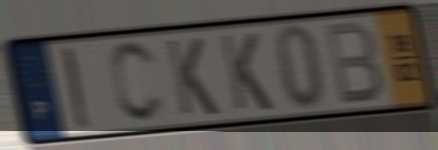0: (273, 21, 330, 114)
B: (321, 19, 385, 108)
C: (107, 39, 169, 127)
I: (60, 44, 94, 132)
K: (163, 35, 222, 118), (217, 30, 276, 113)
